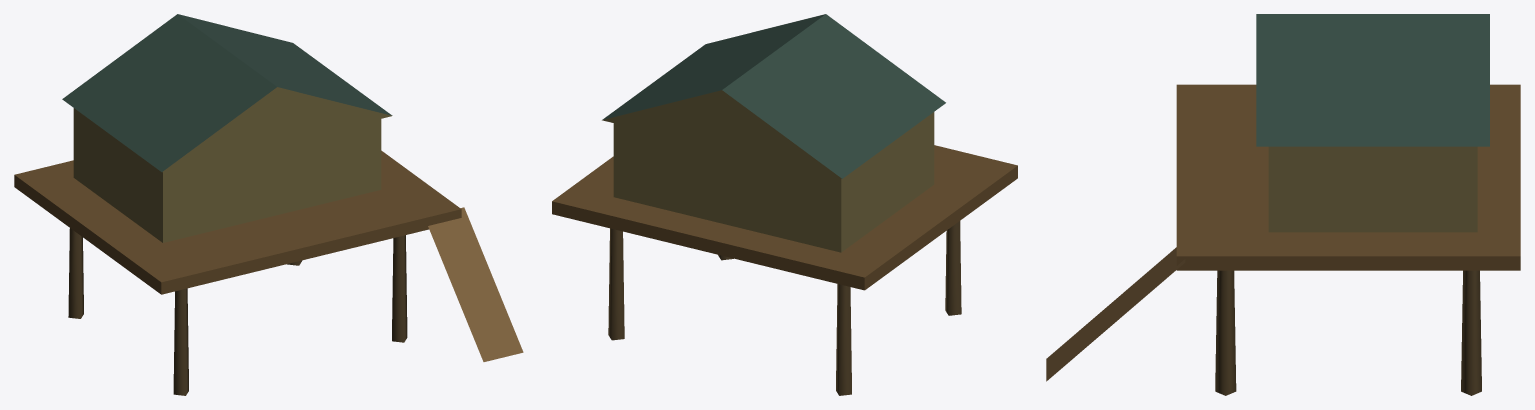
The model's file is stilt.glb.
3 views of the same model, side by side, from view 1: azimuth 30°, elevation 25°; view 2: azimuth 150°, elevation 25°; view 3: azimuth 270°, elevation 25° (orthographic). The views are drawn at different scales.
Visible parts, largest first — view 1: stilt; view 2: stilt; view 3: stilt.
Part boxes in pixels (x1=…): stilt: x1=14, y1=14, x2=523, y2=395; stilt: x1=552, y1=14, x2=1017, y2=395; stilt: x1=1046, y1=14, x2=1520, y2=395.
Bounding box in the file's own units: 33.7 × 28.3 × 38.6.
